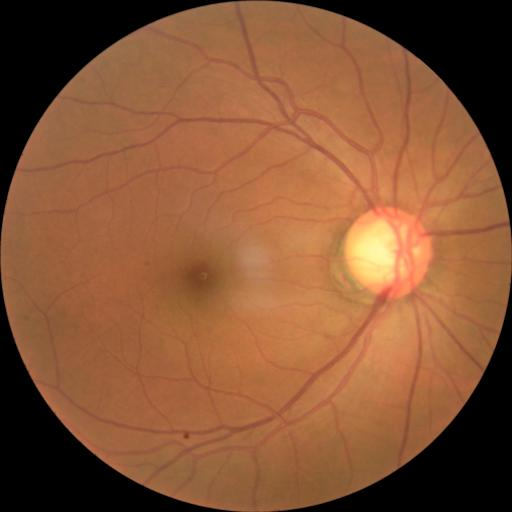Optic Cup: (357, 219, 418, 286)
Optic Disc: (343, 207, 432, 299)
